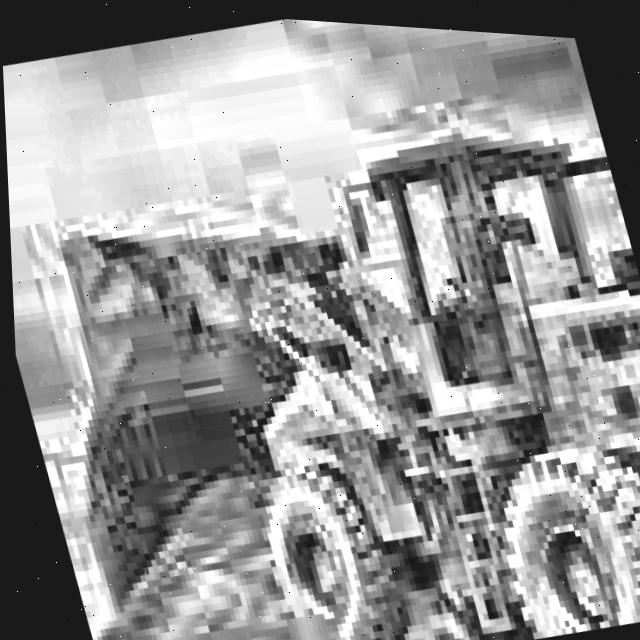buldozerpayloadergrader: (19, 59, 640, 640)
